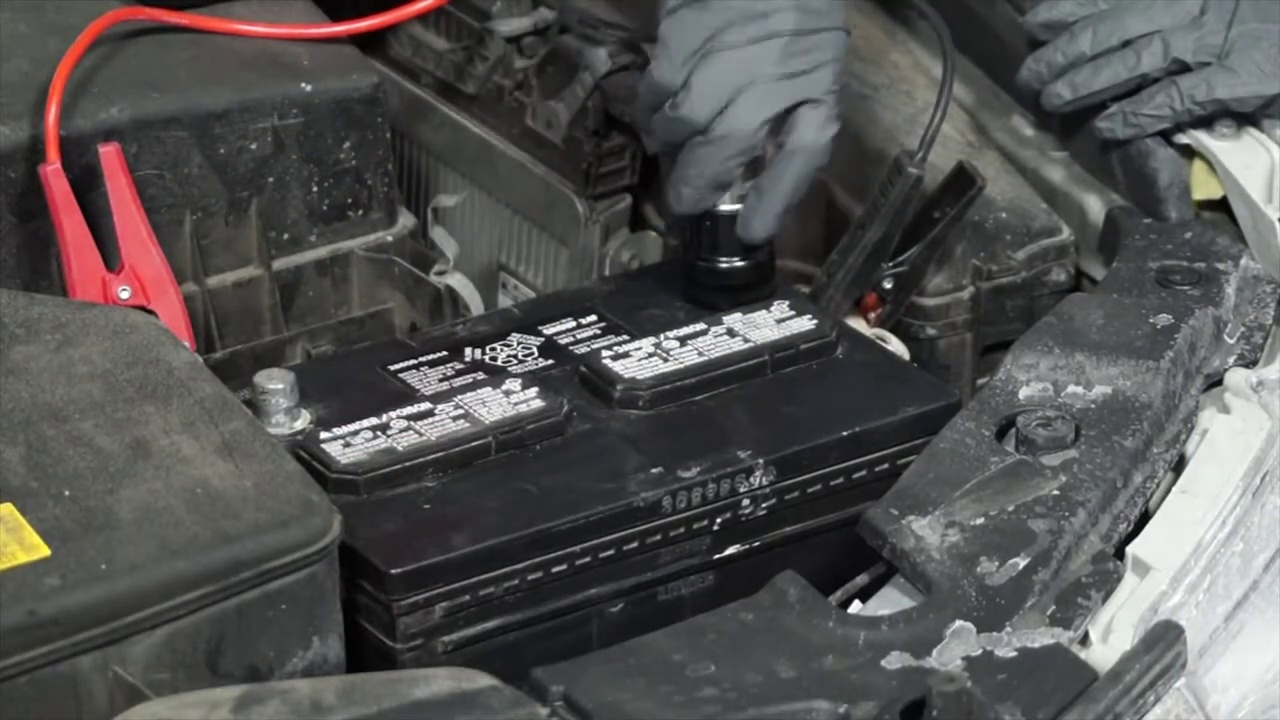battery: (203, 240, 990, 563)
pos_disconnected: (55, 211, 333, 434)
